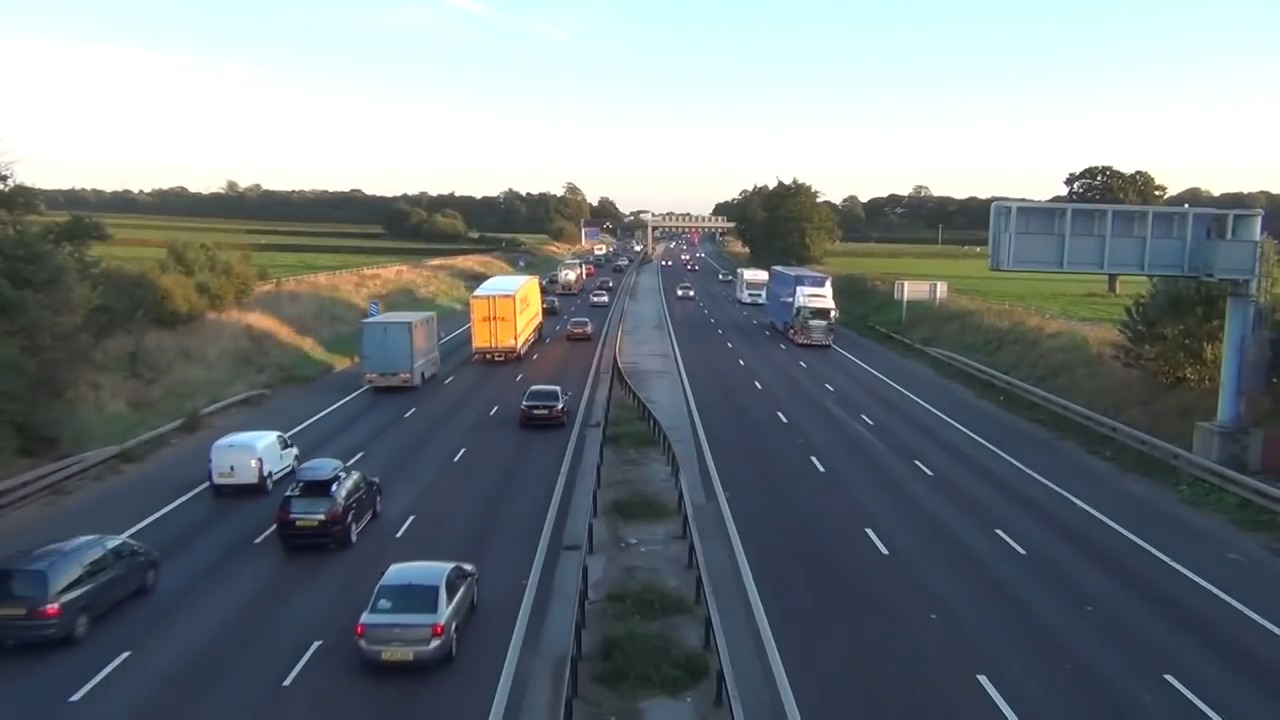truck: (355, 299, 444, 394), (465, 267, 549, 366)
